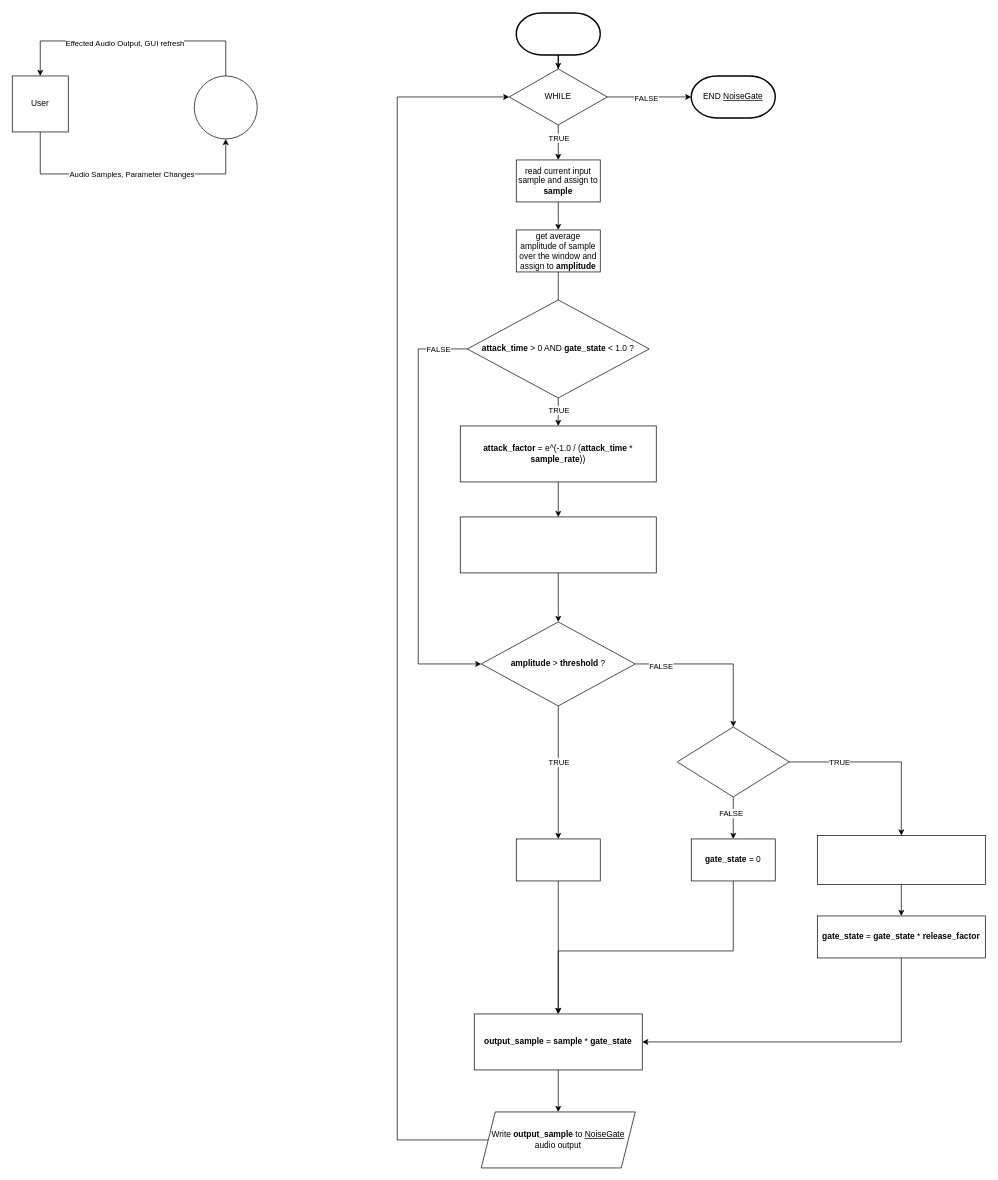
Some shapes in this 998 by 1180 pixel diagram are drawn without their labels. The shapes that lost their labels are listed below. From the top down, each one's box as (x1, y1, x2, y2) in pixels, then its label:
(515, 12, 601, 55): BEGIN NoiseGate
(194, 75, 257, 139): DSP Software
(460, 516, 656, 573): gate_state = gate_state * attack_factor + (1 - attack_factor )
(677, 726, 789, 797): release_time > 0 ?
(516, 838, 600, 881): gate_state = 1.0
(817, 835, 985, 884): release_factor = e^(-1.0 / ( release_time * sample_rate ))
